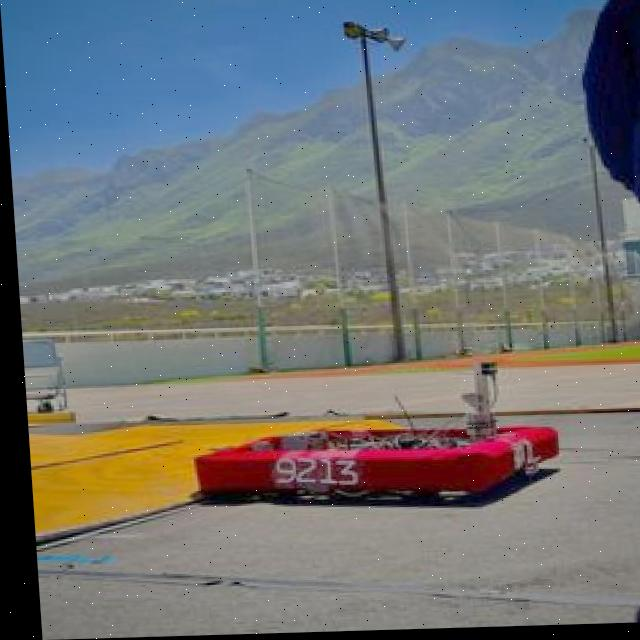robot: (141, 356, 587, 514)
